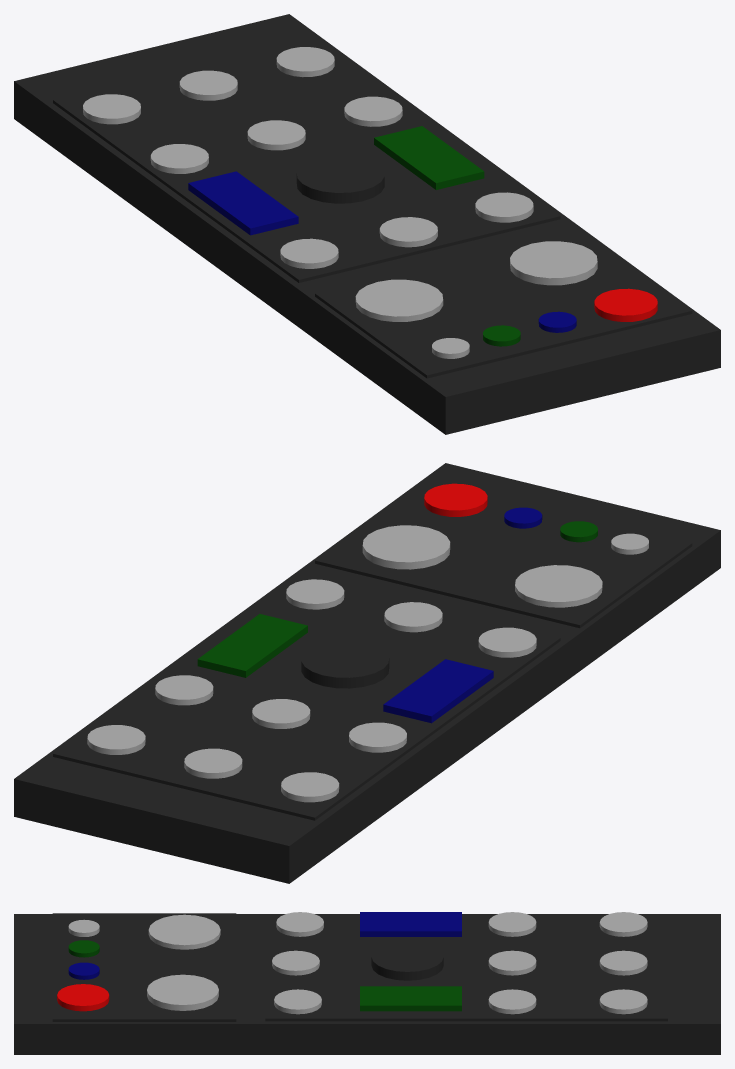
File: remote_cat.fbx
3 renders of one model, top to bottom at view 1: azimuth 30°, elevation 25°; view 2: azimuth 150°, elevation 25°; view 3: azimuth 270°, elevation 25°, orthographic. The views are drawn at different scales.
Visible parts, largest first — view 1: pasted__pCube5, pasted__pasted__pCube5, pasted__pasted__pasted__pCube5 (×2), pasted__pasted__pasted__pasted__pasted__pasted__pasted__past (×7), pasted__pasted__pasted__pasted__pasted__pasted__pasted__pCyl (×3), pasted__pasted__pasted__pasted__pasted__pasted__pCylinder1 (×3), pasted__pasted__pasted__pasted__pasted__pCylinder1 (×2), pasted__pasted__pasted__pasted__pCube5, pasted__pasted__pasted__pasted__pCylinder1; view 2: pasted__pCube5, pasted__pasted__pCube5, pasted__pasted__pasted__pCube5 (×2), pasted__pasted__pasted__pasted__pasted__pasted__pasted__past (×7), pasted__pasted__pasted__pasted__pasted__pasted__pasted__pCyl (×3), pasted__pasted__pasted__pasted__pasted__pasted__pCylinder1 (×3), pasted__pasted__pasted__pasted__pasted__pCylinder1 (×2), pasted__pasted__pasted__pasted__pCube5, pasted__pasted__pasted__pasted__pCylinder1; view 3: pasted__pCube5, pasted__pasted__pCube5, pasted__pasted__pasted__pCube5 (×2), pasted__pasted__pasted__pasted__pasted__pasted__pasted__past (×7), pasted__pasted__pasted__pasted__pasted__pasted__pasted__pCyl (×3), pasted__pasted__pasted__pasted__pasted__pasted__pCylinder1 (×3), pasted__pasted__pasted__pasted__pasted__pCylinder1 (×2), pasted__pasted__pasted__pasted__pCube5, pasted__pasted__pasted__pasted__pCylinder1.
Part boxes in pixels (box(x1,y1,x2,y2)): pasted__pCube5: box(14, 14, 720, 434); pasted__pasted__pCube5: box(53, 36, 560, 282); pasted__pasted__pasted__pCube5 (×2): box(315, 126, 692, 378); pasted__pasted__pasted__pasted__pasted__pasted__pasted__past (×7): box(83, 47, 533, 247); pasted__pasted__pasted__pasted__pasted__pasted__pasted__pCyl (×3): box(150, 144, 576, 332); pasted__pasted__pasted__pasted__pasted__pasted__pCylinder1 (×3): box(280, 238, 597, 346); pasted__pasted__pasted__pasted__pasted__pCylinder1 (×2): box(355, 279, 469, 358); pasted__pasted__pasted__pasted__pCube5: box(188, 171, 298, 235); pasted__pasted__pasted__pasted__pCylinder1: box(594, 288, 657, 321); pasted__pCube5: box(14, 463, 720, 883); pasted__pasted__pCube5: box(53, 574, 560, 820); pasted__pasted__pasted__pCube5 (×2): box(197, 478, 692, 677); pasted__pasted__pasted__pasted__pasted__pasted__pasted__past (×7): box(87, 579, 442, 802); pasted__pasted__pasted__pasted__pasted__pasted__pasted__pCyl (×3): box(301, 507, 542, 752); pasted__pasted__pasted__pasted__pasted__pasted__pCylinder1 (×3): box(362, 521, 597, 657); pasted__pasted__pasted__pasted__pasted__pCylinder1 (×2): box(515, 533, 648, 607); pasted__pasted__pasted__pasted__pCube5: box(383, 659, 493, 723); pasted__pasted__pasted__pasted__pCylinder1: box(424, 483, 487, 516); pasted__pCube5: box(14, 914, 720, 1054); pasted__pasted__pCube5: box(265, 914, 667, 1021); pasted__pasted__pasted__pCube5 (×2): box(52, 913, 461, 1021); pasted__pasted__pasted__pasted__pasted__pasted__pasted__past (×7): box(272, 912, 647, 1014); pasted__pasted__pasted__pasted__pasted__pasted__pasted__pCyl (×3): box(68, 912, 536, 980); pasted__pasted__pasted__pasted__pasted__pasted__pCylinder1 (×3): box(68, 912, 323, 1010); pasted__pasted__pasted__pasted__pasted__pCylinder1 (×2): box(68, 914, 220, 949); pasted__pasted__pasted__pasted__pCube5: box(360, 912, 461, 936); pasted__pasted__pasted__pasted__pCylinder1: box(57, 984, 109, 1011).
Size of the model in its own units: 0.1899 by 0.034 by 0.5155.
